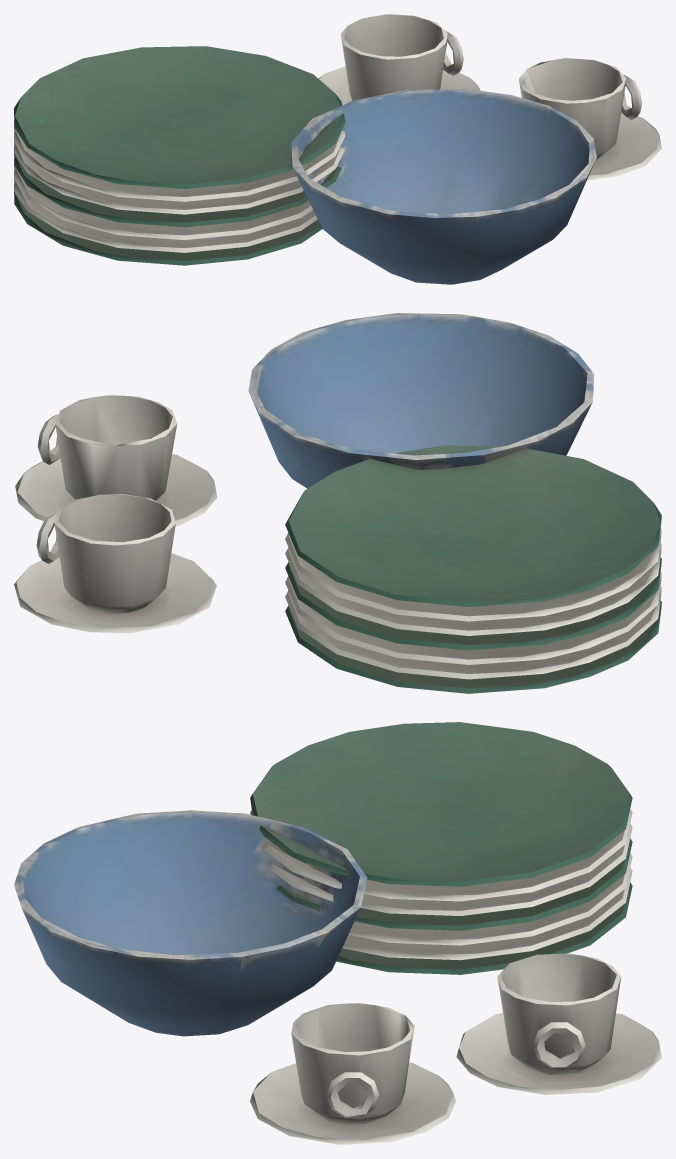
The model's file is clutter_dishes-low.glb.
3 views of the same model, one above another, from view 1: azimuth 30°, elevation 25°; view 2: azimuth 150°, elevation 25°; view 3: azimuth 270°, elevation 25° (orthographic). The views are drawn at different scales.
Parts seen in each view (by area): view 1: clutter_dishes-low; view 2: clutter_dishes-low; view 3: clutter_dishes-low.
Boxes of the visible parts, x1,y1,x2,y2 form: clutter_dishes-low: [14, 14, 661, 284]; clutter_dishes-low: [14, 313, 661, 693]; clutter_dishes-low: [14, 722, 661, 1144].
Size of the model in its own units: 0.5198 by 0.0911 by 0.4397.
Materials: 1 (1 with a texture image).
